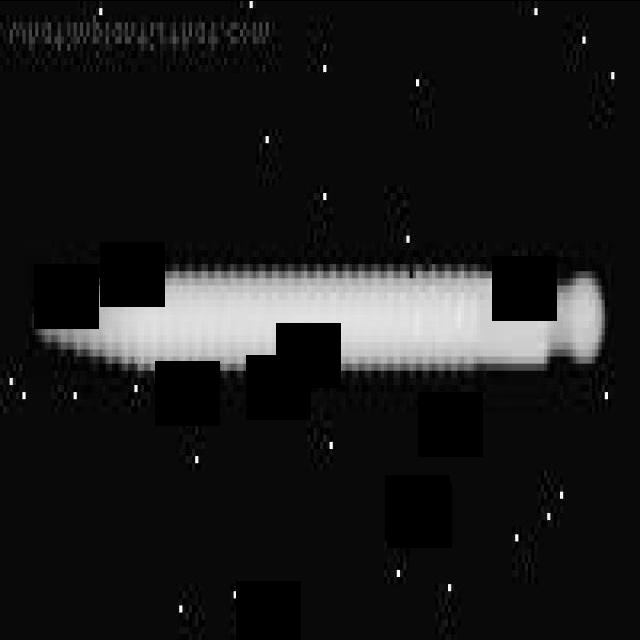Leone Implant: (29, 256, 605, 377)
